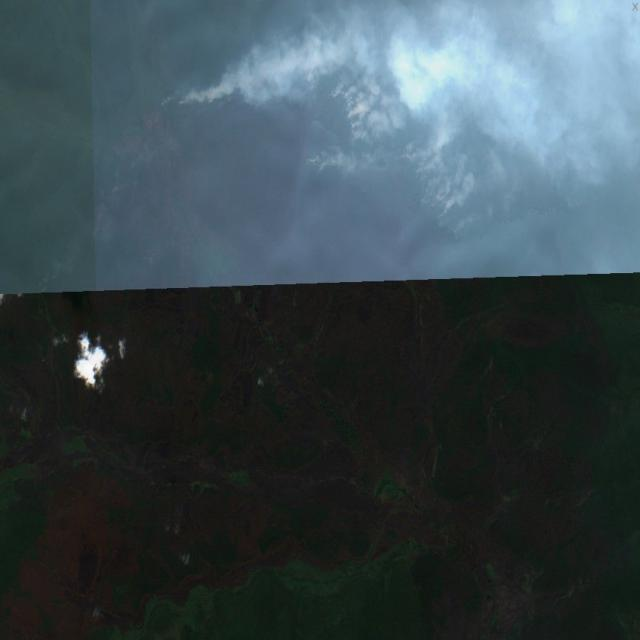fire: (99, 50, 458, 263)
